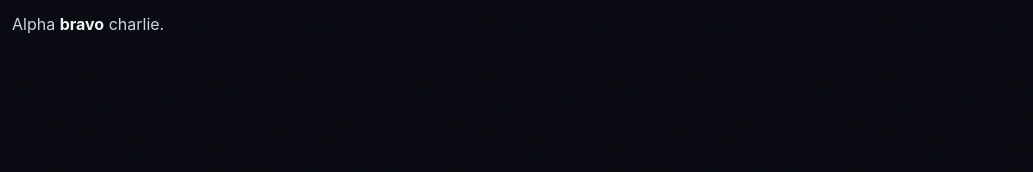
Test: ArticleFind › matches a query that spans inline markup
The width and height of the screenshot is (1033, 172).
Press /
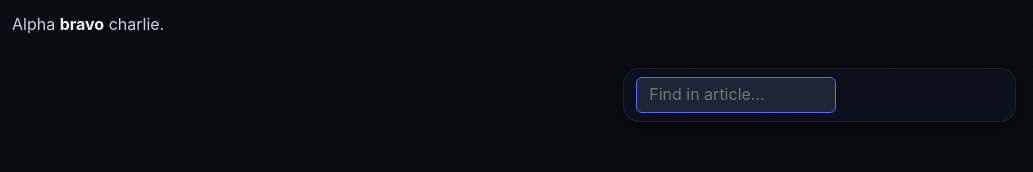
Type "alpha bravo" into the field labelled "Find in article".
click(736, 95); type("alpha bravo")  # box left=636, top=77, right=836, bottom=113
Wait 200 ms
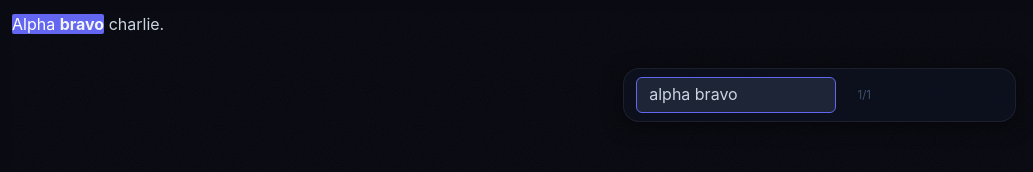
expect the element with class "article-find-hit" is shown: met, box left=12, top=14, right=104, bottom=34
expect the text "1/1" is shown: met, box left=858, top=88, right=871, bottom=102
